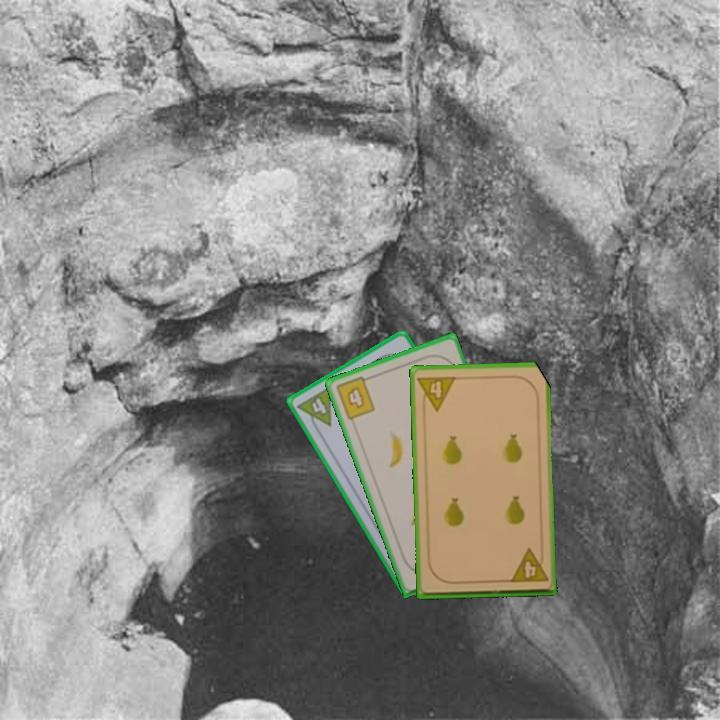4b: (332, 372, 378, 423)
4p: (294, 383, 334, 436), (414, 372, 459, 414), (506, 545, 551, 585)
